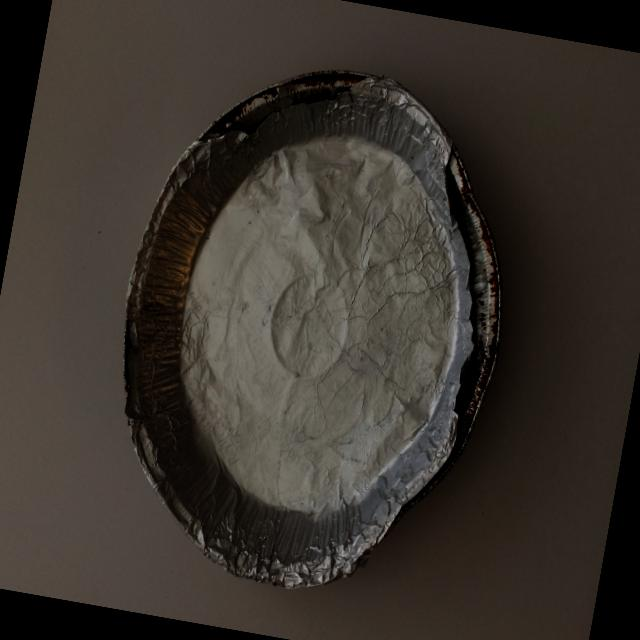Metal: (68, 0, 557, 636)
